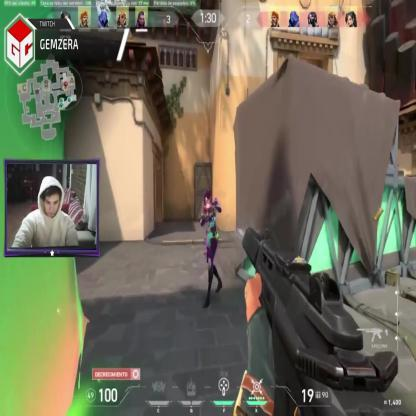enemy: (199, 189, 223, 309)
enemy_head: (204, 191, 211, 210)
